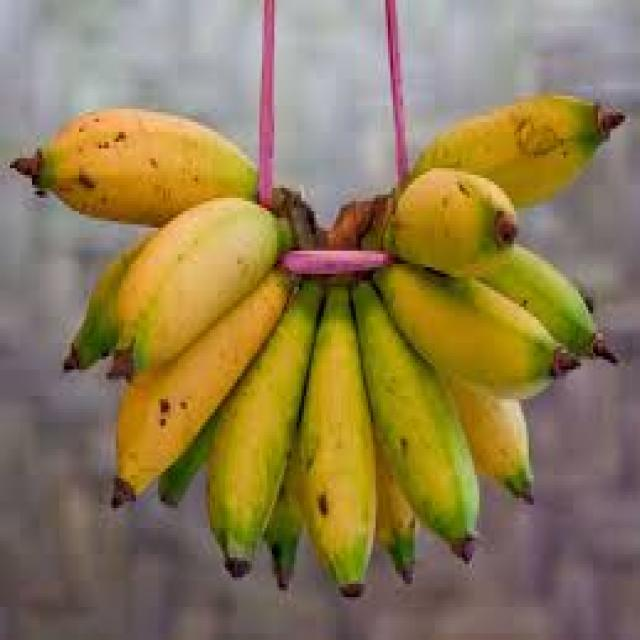banana: (11, 89, 621, 597)
